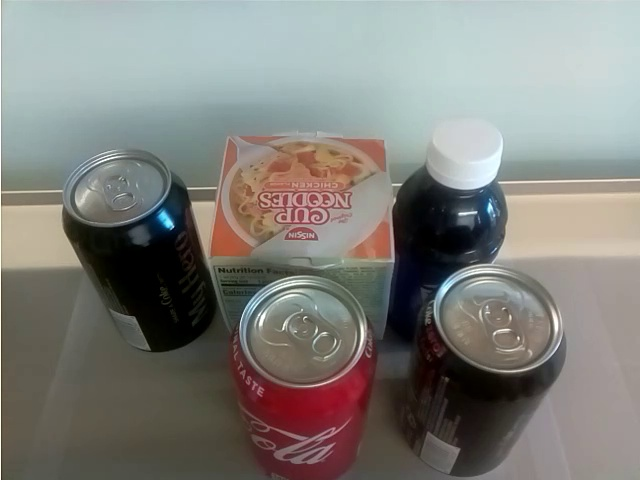cocacola: (229, 277, 372, 478)
cocacola-zero: (399, 266, 569, 467), (59, 148, 212, 354)
juice: (399, 121, 509, 268)
noodles: (213, 133, 395, 277)
